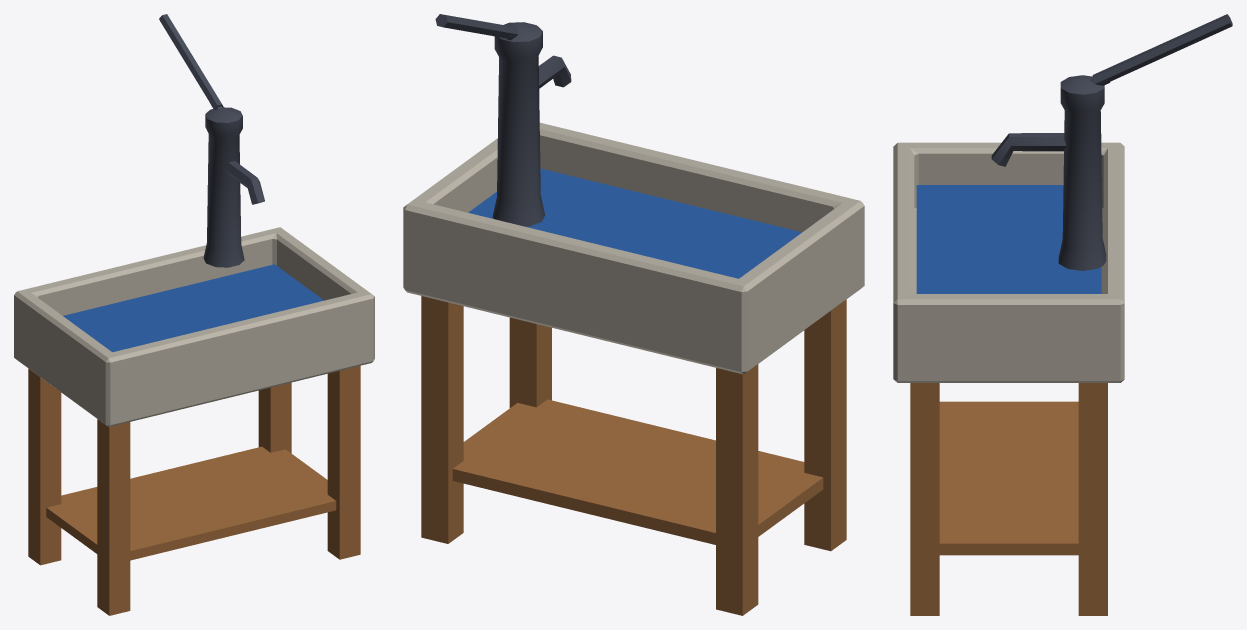
File: sink.glb
3 renders of one model, left to right at view 1: azimuth 30°, elevation 25°; view 2: azimuth 150°, elevation 25°; view 3: azimuth 270°, elevation 25°, orthographic. The views are drawn at different scales.
Parts seen in each view (by area): view 1: Sink stand, Sink basin, Sink water, Sink pump; view 2: Sink stand, Sink basin, Sink water, Sink pump; view 3: Sink stand, Sink basin, Sink water, Sink pump.
Part boxes in pixels (x1,y1,x2,y2): Sink stand: (28, 365, 360, 615); Sink basin: (14, 227, 374, 426); Sink water: (63, 264, 323, 352); Sink pump: (159, 14, 264, 267); Sink stand: (421, 296, 846, 615); Sink basin: (403, 122, 864, 374); Sink water: (468, 168, 801, 278); Sink pump: (435, 14, 571, 226); Sink stand: (910, 383, 1107, 615); Sink basin: (893, 142, 1124, 382); Sink water: (916, 185, 1101, 293); Sink pump: (991, 14, 1232, 270).
Size of the model in its own units: 0.9 by 1.47 by 0.8062.
